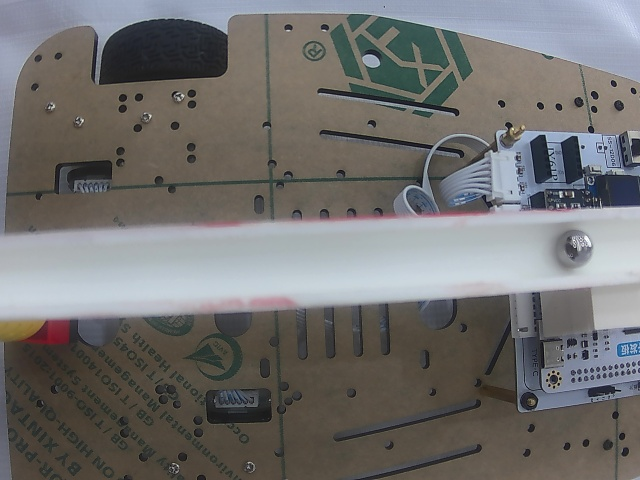steelball: (556, 230, 594, 268)
